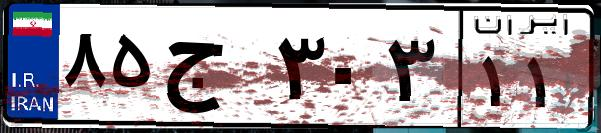0: (330, 28, 385, 110)
1: (475, 38, 525, 113), (525, 38, 570, 115)
3: (270, 28, 330, 110), (385, 28, 445, 110)
5: (110, 28, 158, 98)
8: (57, 26, 110, 100)
ج: (158, 20, 270, 120)
